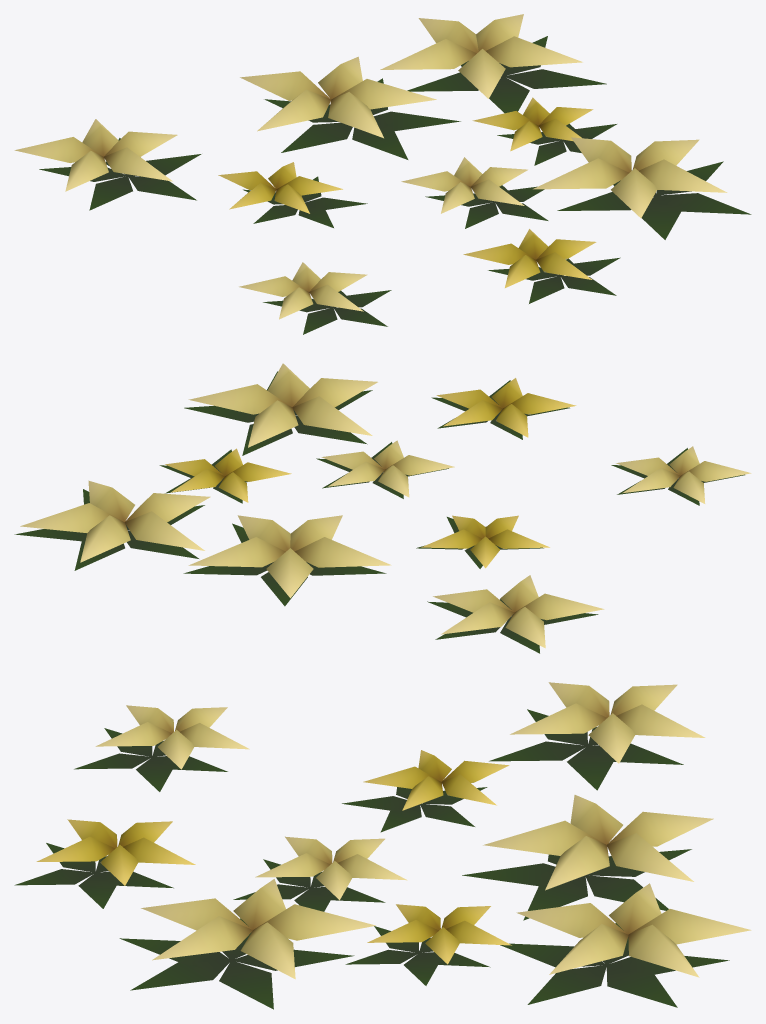
The model's file is deco_flowers_yellow.FBX.
The picture shows the model from 3 angles, top to bottom: view 1: azimuth 30°, elevation 25°; view 2: azimuth 150°, elevation 25°; view 3: azimuth 270°, elevation 25°; orthographic projection. The views are drawn at different scales.
Visible parts, largest first — view 1: deco_flowers_yellow; view 2: deco_flowers_yellow; view 3: deco_flowers_yellow.
Boxes of the visible parts, x1,y1,x2,y2 form: deco_flowers_yellow: (14, 14, 751, 334); deco_flowers_yellow: (14, 363, 751, 653); deco_flowers_yellow: (14, 682, 751, 1009).
Bounding box in the file's own units: 1.87 × 0.1303 × 1.88.
Materials: 1 (1 with a texture image).
